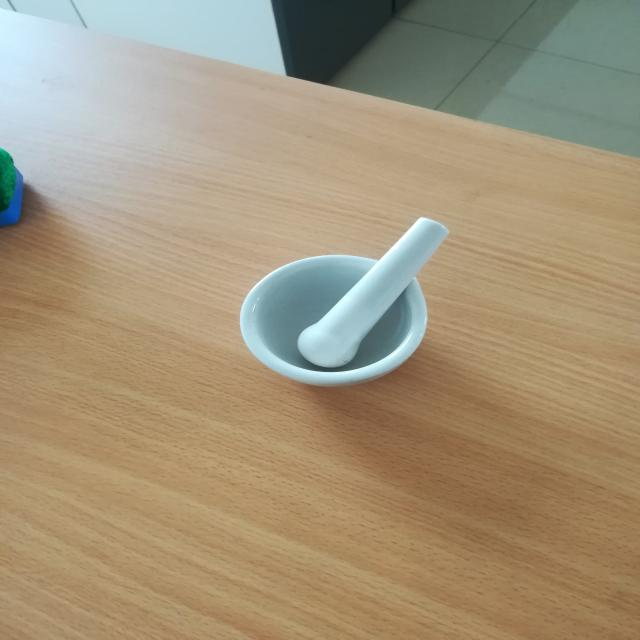Porcelain_Mortar Pestle: (196, 180, 492, 412)
